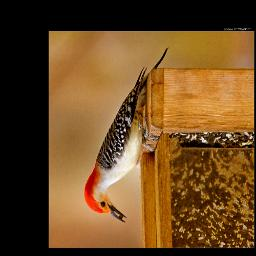Woodpecker: (83, 47, 169, 223)
